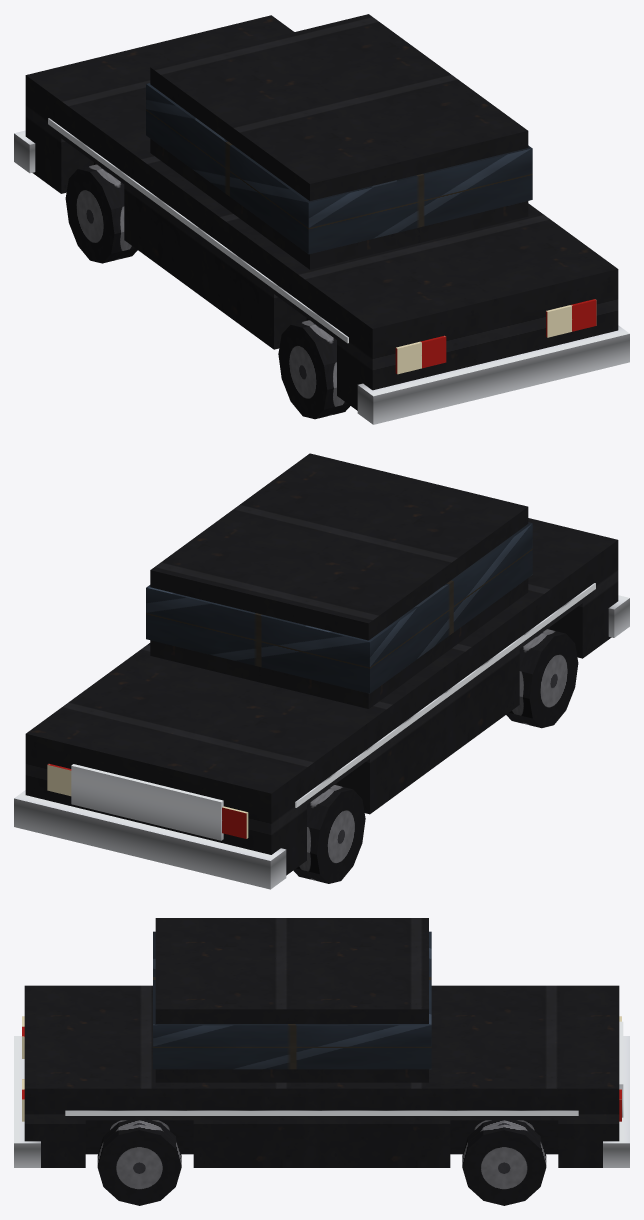
The model's file is Car_SedanBlack.fbx.
The picture shows the model from 3 angles, top to bottom: view 1: azimuth 30°, elevation 25°; view 2: azimuth 150°, elevation 25°; view 3: azimuth 270°, elevation 25°; orthographic projection. The views are drawn at different scales.
Visible parts, largest first — view 1: Car_SedanBlack; view 2: Car_SedanBlack; view 3: Car_SedanBlack.
Part boxes in pixels (x1,y1,x2,y2): Car_SedanBlack: (14, 14, 629, 424); Car_SedanBlack: (14, 453, 629, 889); Car_SedanBlack: (14, 918, 629, 1205).
Bounding box in the file's own units: 1.88 × 1.55 × 4.56.
